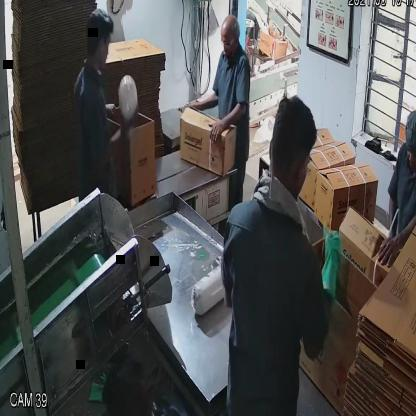glove: (312, 218, 348, 311)
no_glove: (91, 108, 139, 172), (373, 215, 416, 267), (206, 105, 252, 144), (177, 92, 222, 117)
